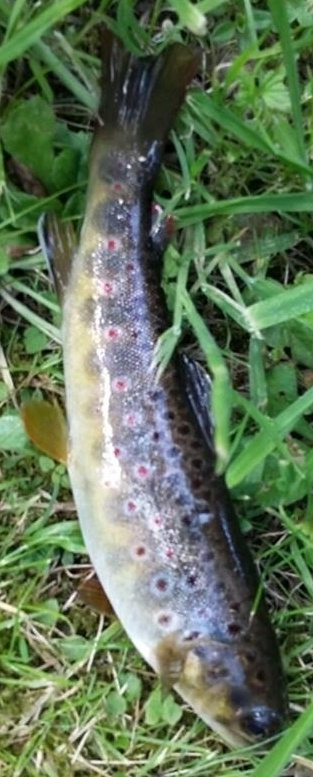Salmo trutta subsp. fario: (20, 20, 293, 757)
